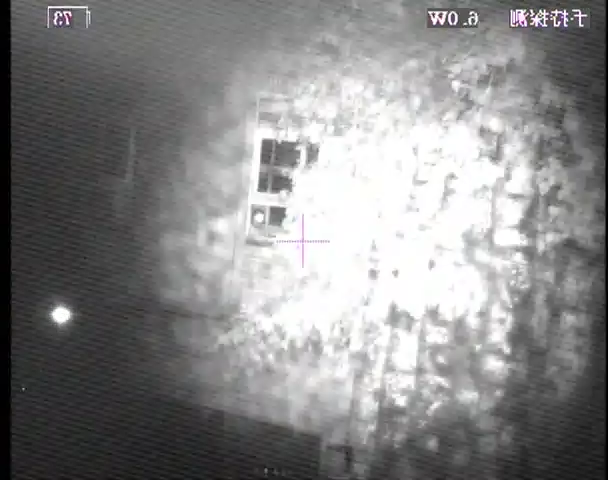my: (251, 208, 266, 224)
